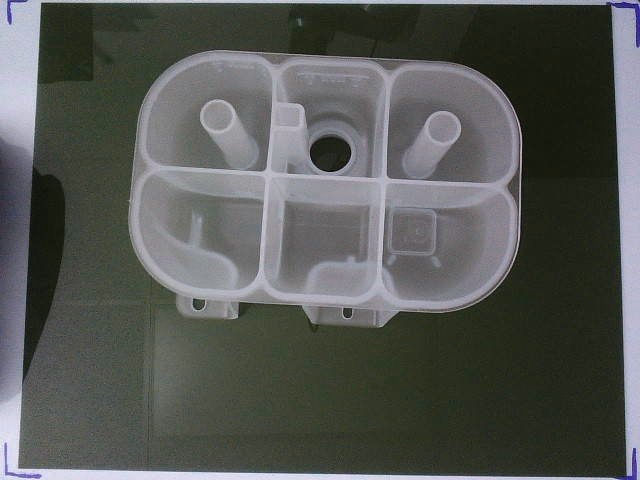reservoir_transparent_Under: (128, 49, 522, 328)
